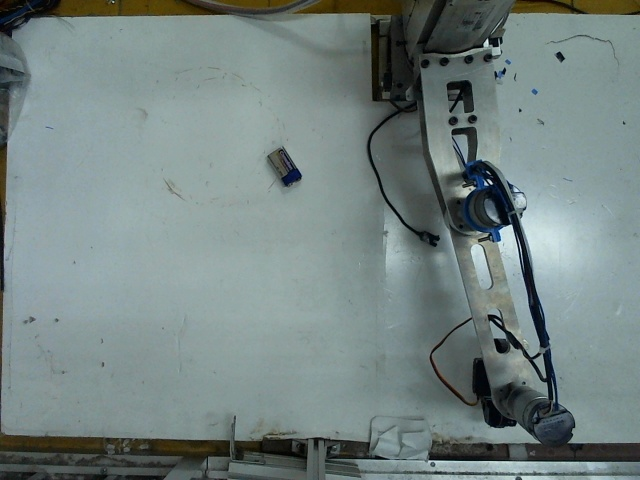battery: (263, 145, 306, 189)
